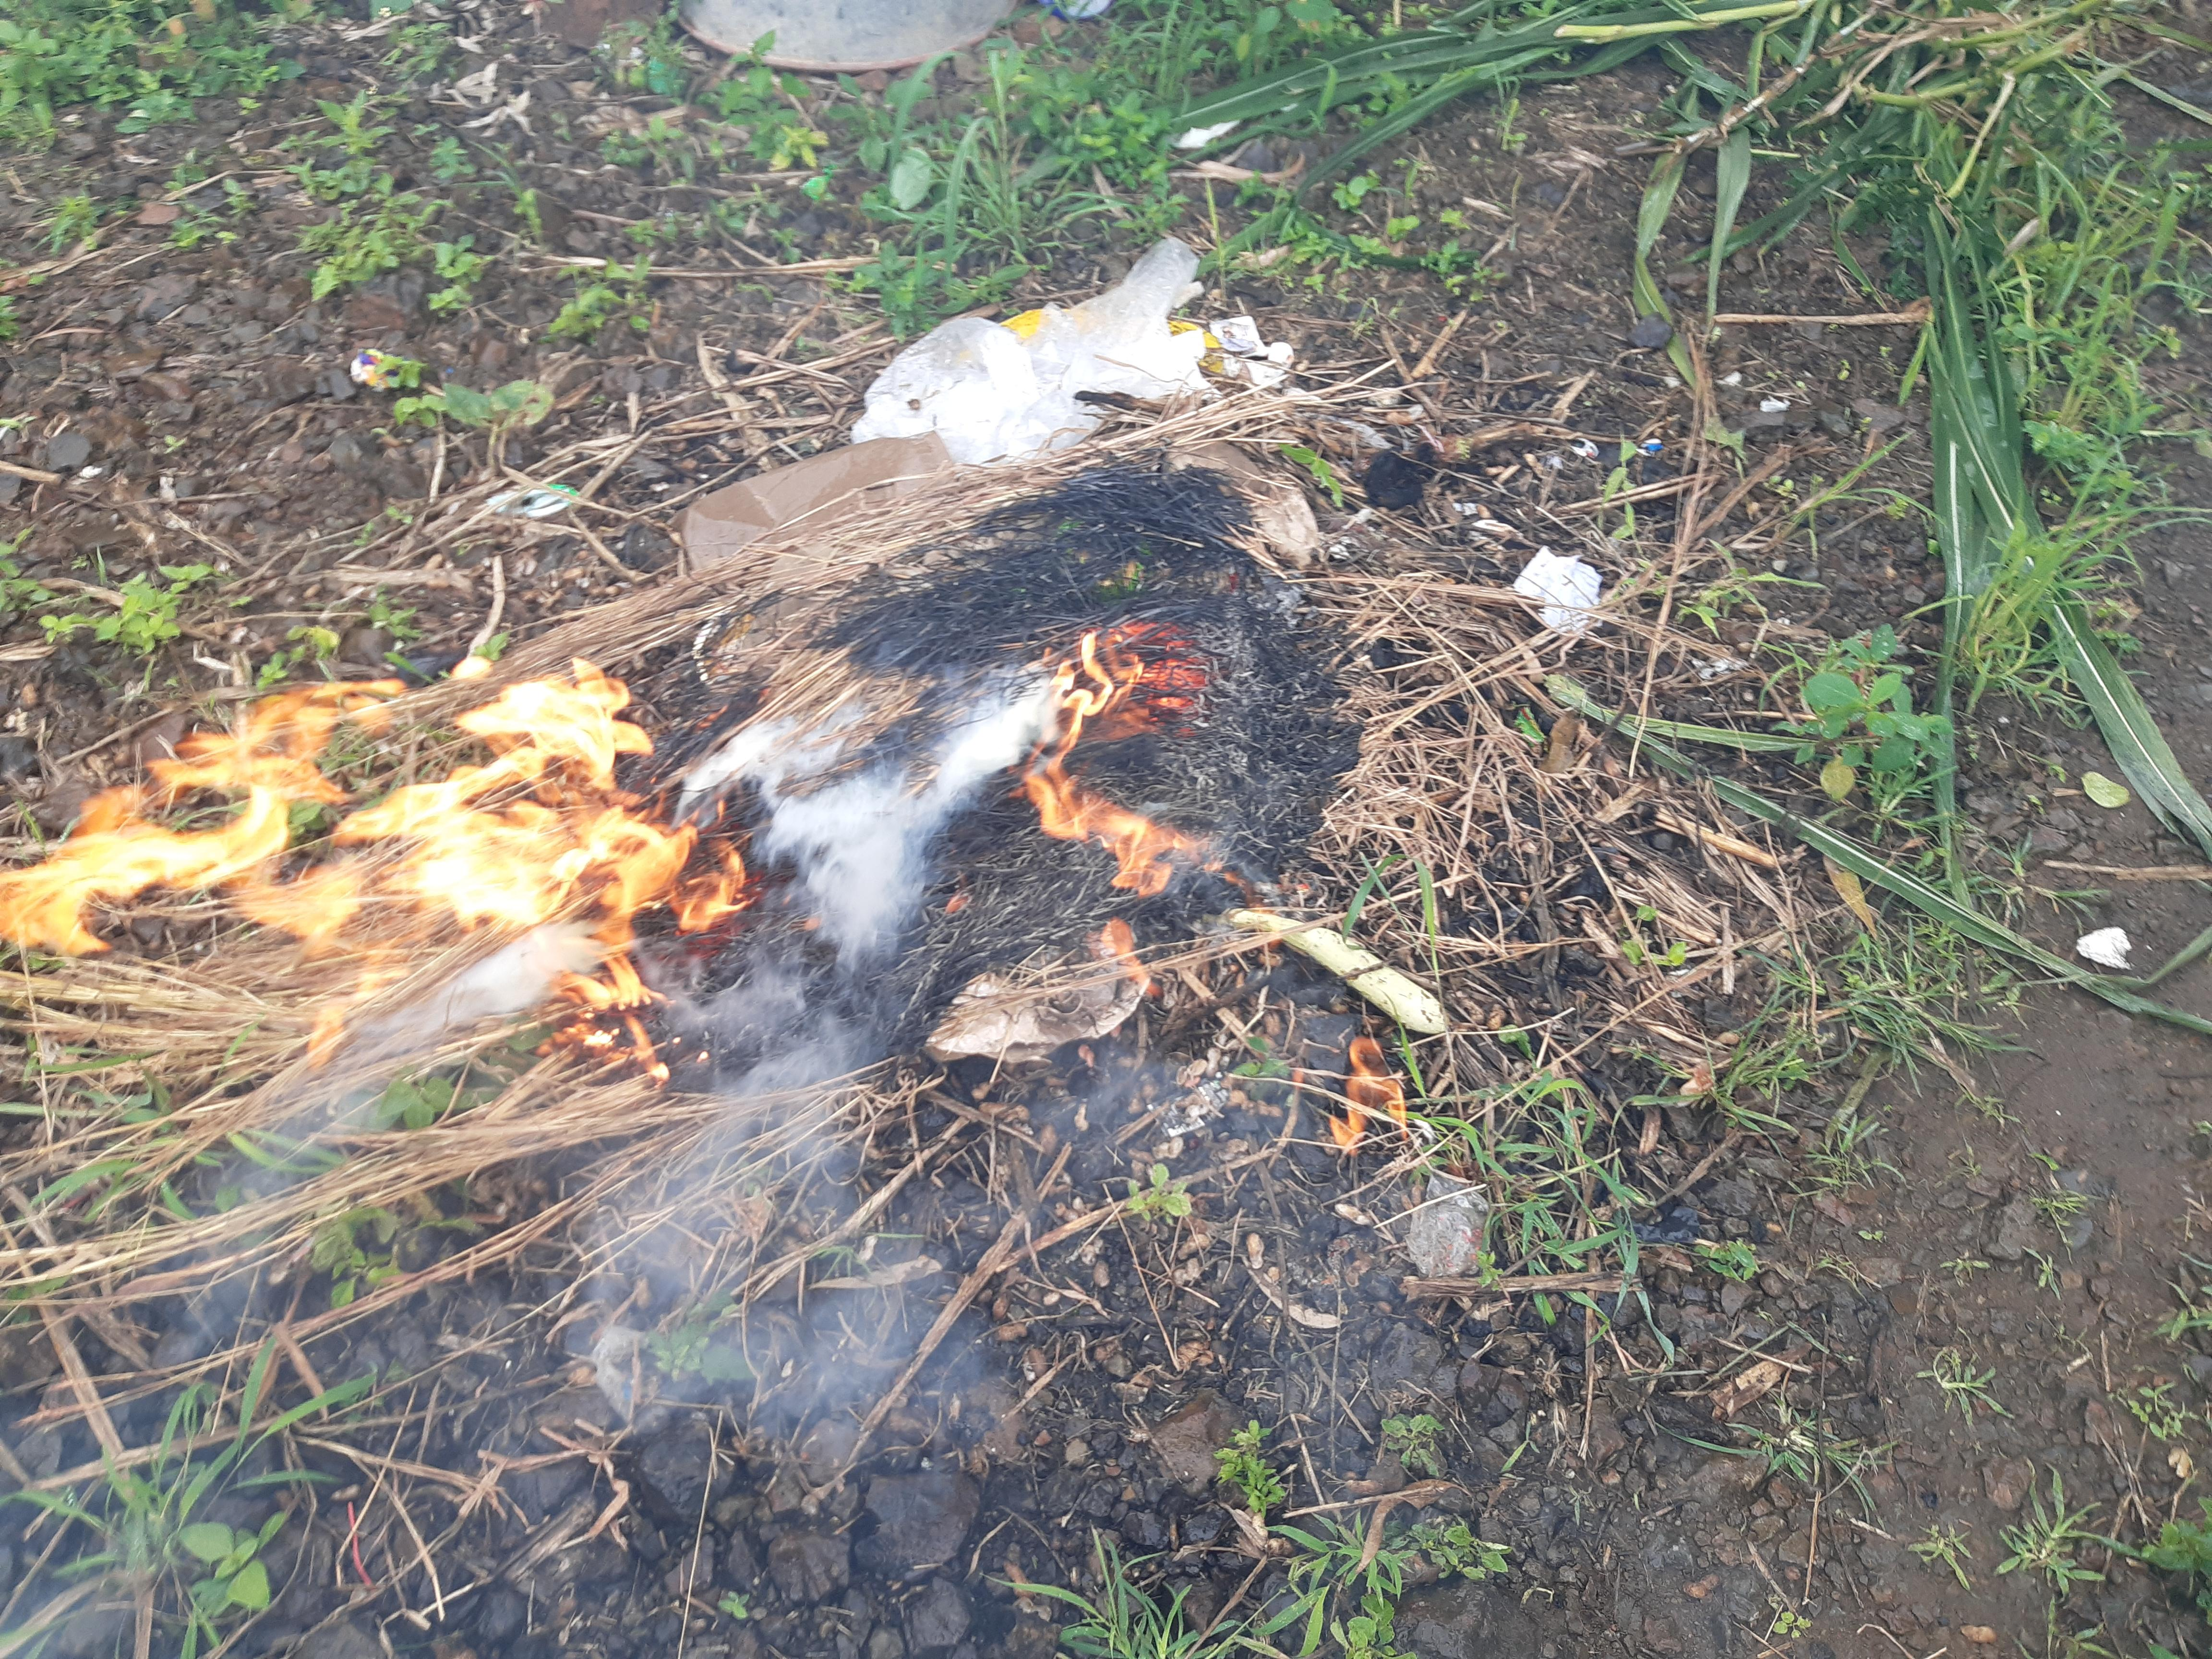Fire: (745, 5, 1420, 556), (988, 760, 1460, 962)
Smoke: (273, 418, 723, 746), (866, 559, 1465, 742)
